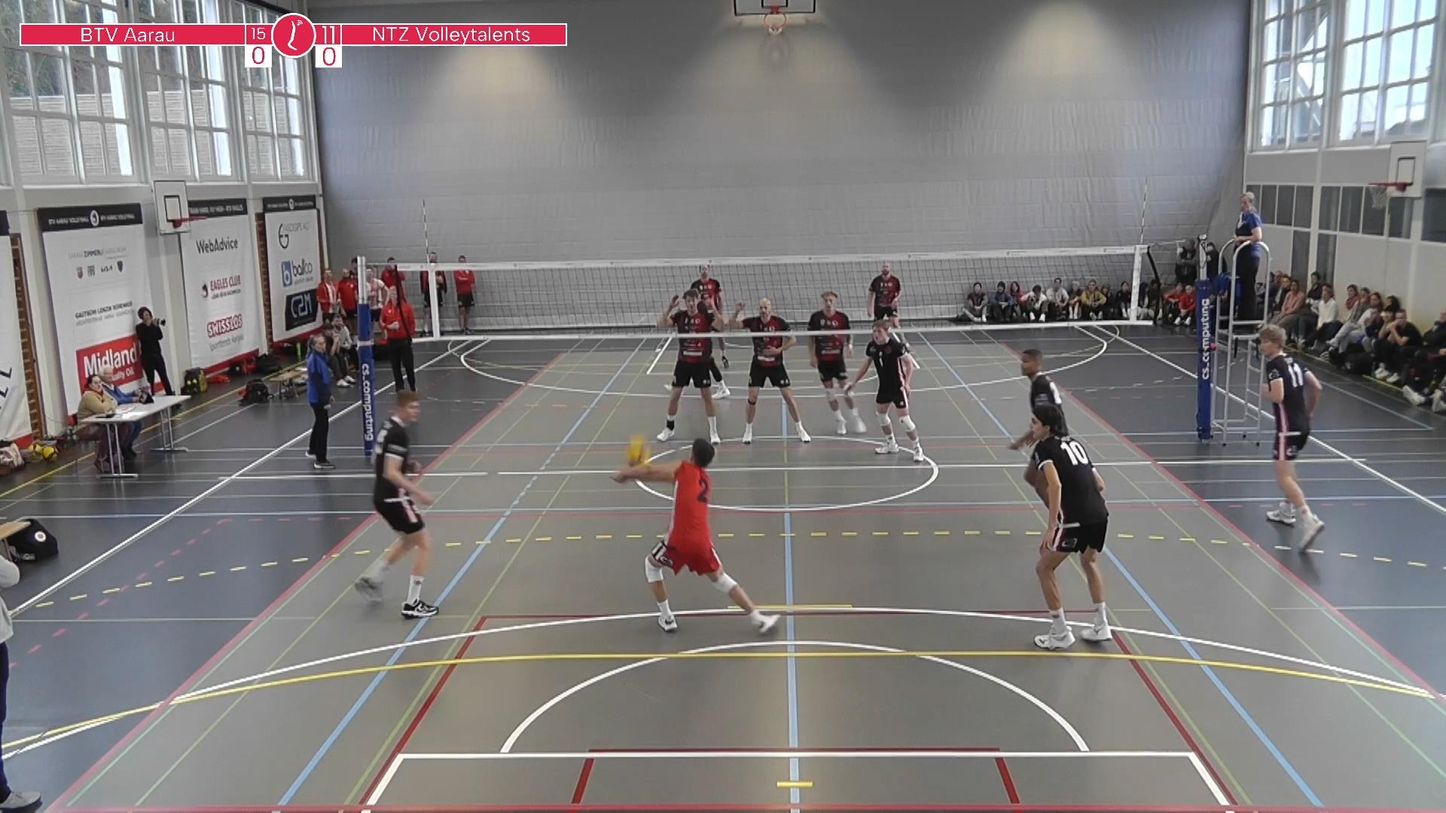ricezione: (599, 429, 782, 638)
